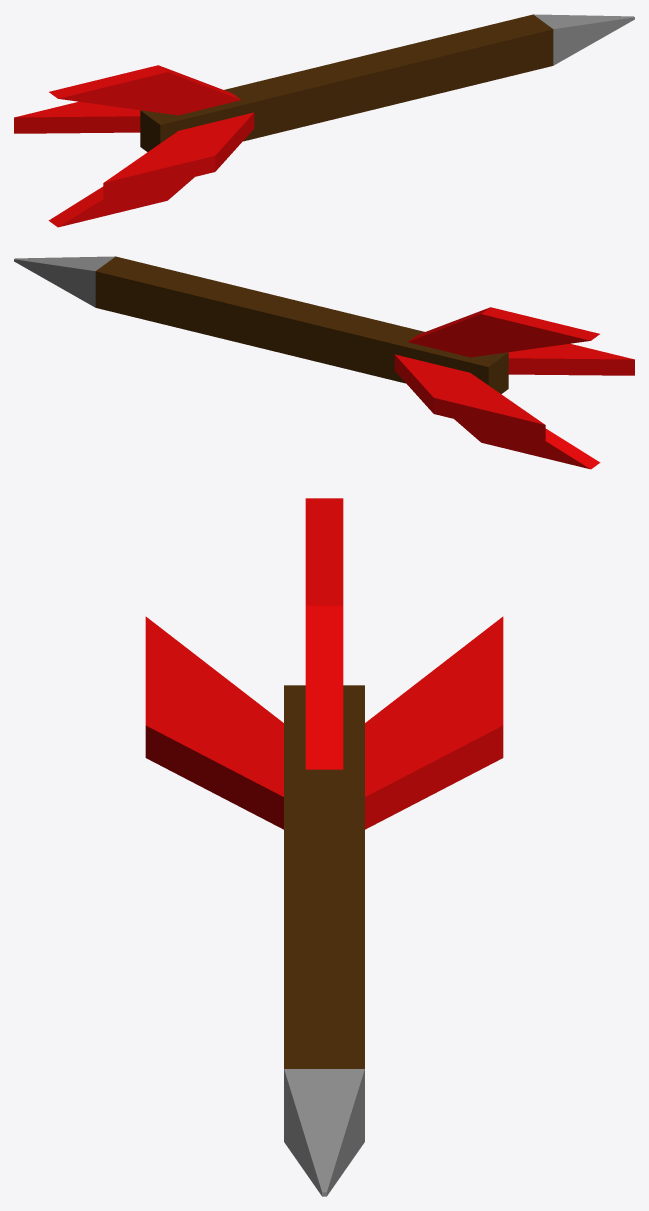
The model's file is Arrow_Textured.fbx.
The picture shows the model from 3 angles, top to bottom: view 1: azimuth 30°, elevation 25°; view 2: azimuth 150°, elevation 25°; view 3: azimuth 270°, elevation 25°; orthographic projection. The views are drawn at different scales.
Parts seen in each view (by area): view 1: pCube1; view 2: pCube1; view 3: pCube1.
Boxes of the visible parts, x1,y1,x2,y2 form: pCube1: (14,14,634,227); pCube1: (14,256,634,469); pCube1: (145,498,503,1196).
Size of the model in its own units: 16.62 by 3.52 by 4.43.
